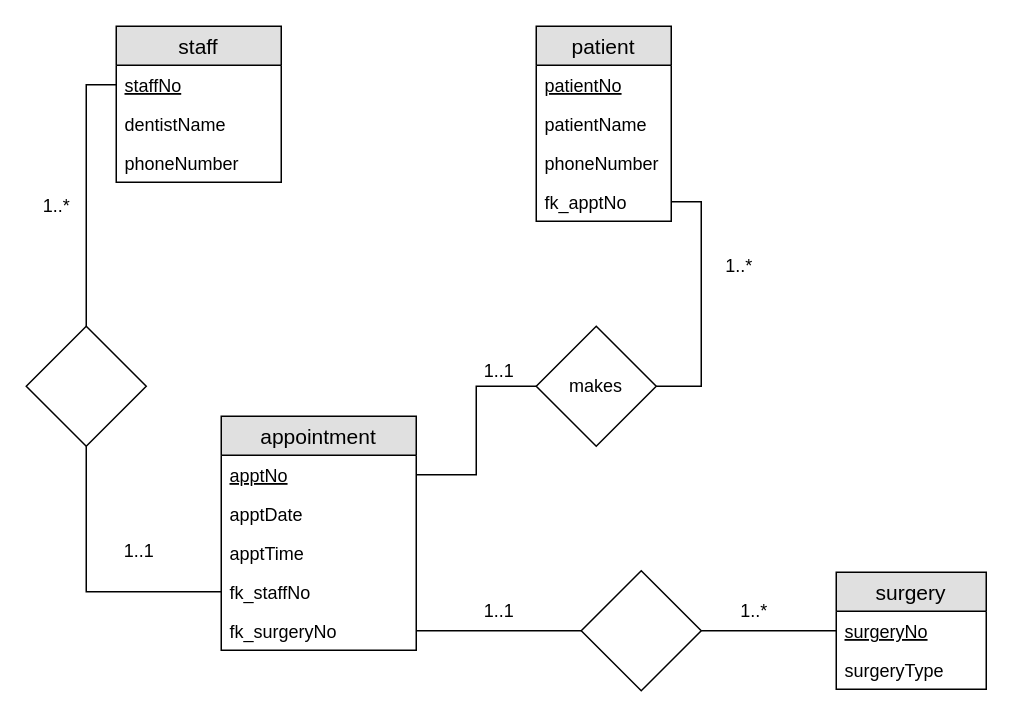
The diagram is 1013 pixels wide and 720 high, and some of its shapes have lost their labels. The shapes that lost their labels are listed below. From the top down, each one's centre as x and y in pixels, then its label:
At pixel 85 385: "assigned to".
At pixel 640 630: "may result in".
